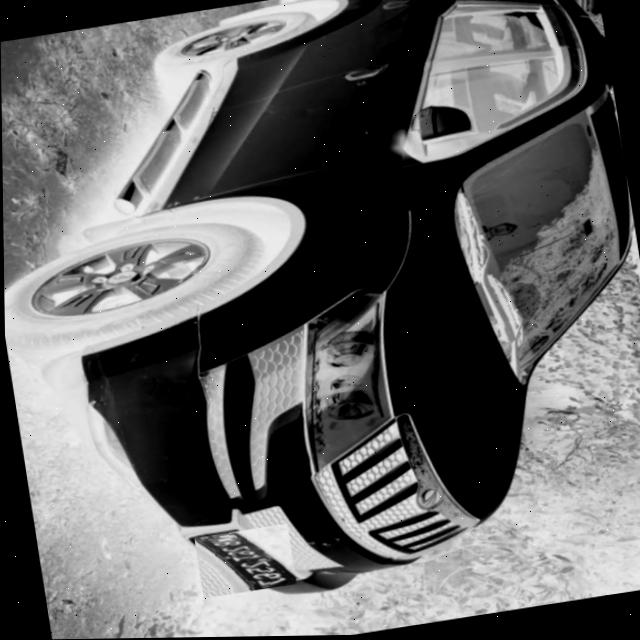Non_registered: (191, 525, 294, 599)
